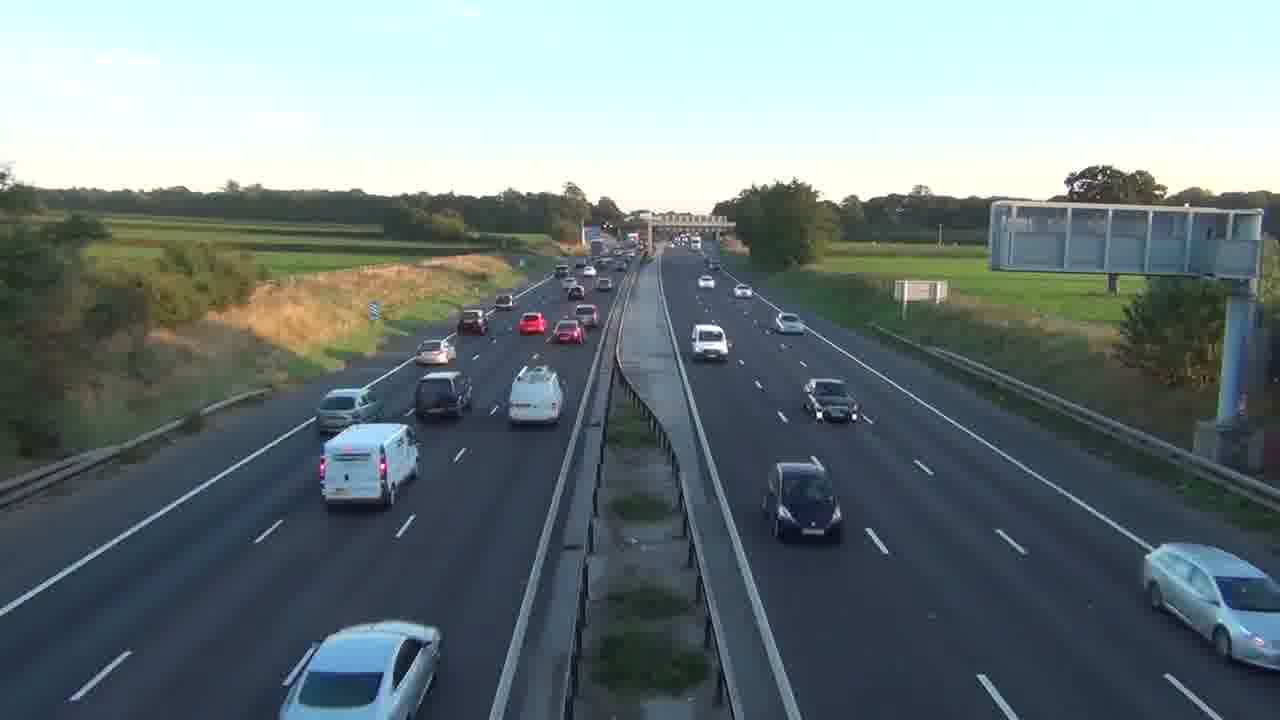car: (1142, 540, 1280, 671), (276, 619, 443, 719), (762, 455, 844, 542), (316, 386, 384, 436), (800, 377, 856, 422), (551, 319, 585, 345), (518, 313, 547, 335)
truck: (317, 421, 421, 511)
